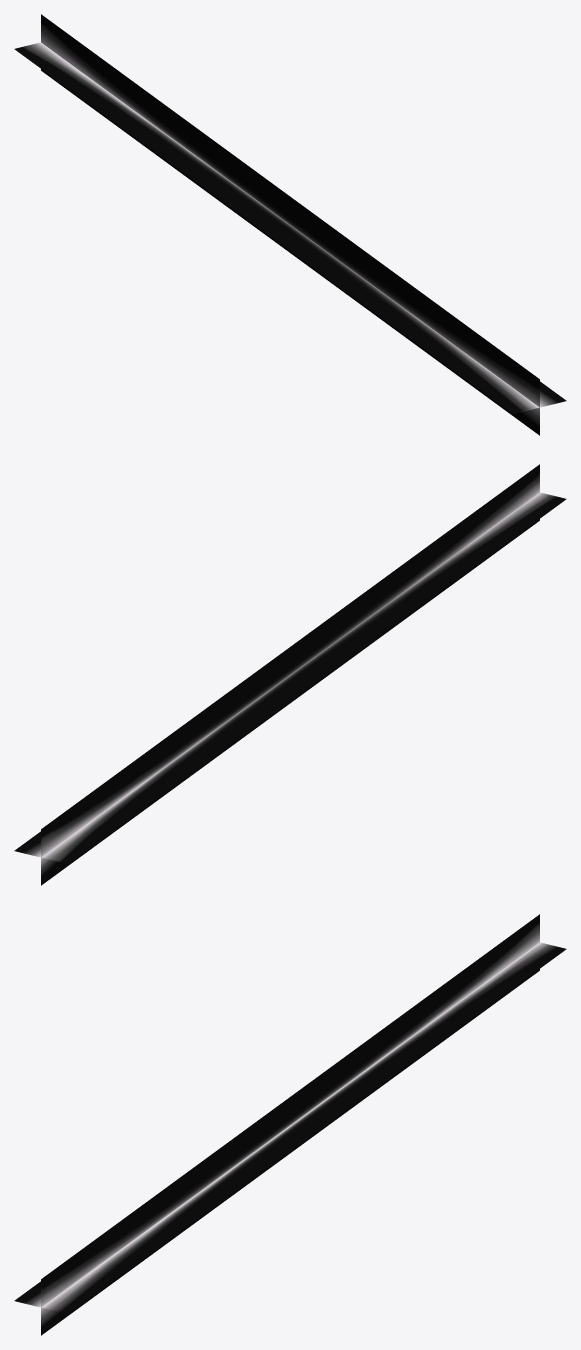
Rendered from Fx_hero3008_gongxian_01.FBX.
The picture shows the model from 3 angles, top to bottom: view 1: azimuth 30°, elevation 25°; view 2: azimuth 150°, elevation 25°; view 3: azimuth 330°, elevation 25°; orthographic projection.
Parts seen in each view (by area): view 1: Plane002; view 2: Plane002; view 3: Plane002.
Part boxes in pixels (x1,y1,x2,y2): Plane002: (14,14,566,435); Plane002: (14,464,566,885); Plane002: (14,914,566,1335).
Bounding box in the file's own units: 7.89 × 7.89 × 126.
1 material, 1 textured.
